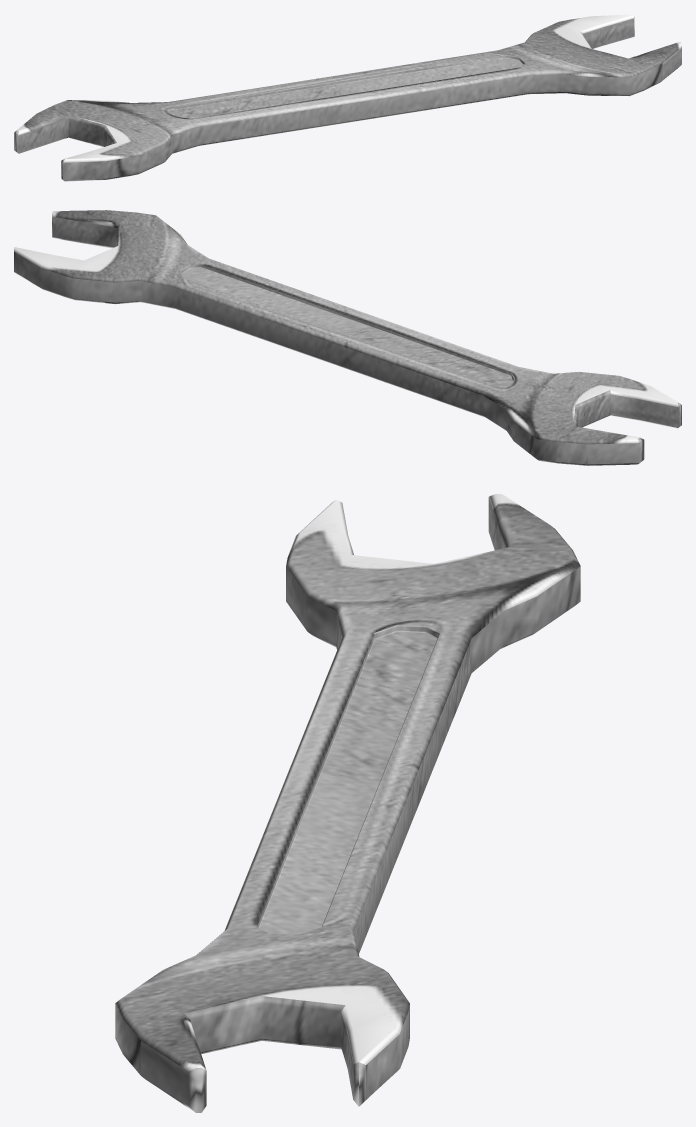
Rendered from healthpickup.fbx.
3 views of the same model, one above another, from view 1: azimuth 30°, elevation 25°; view 2: azimuth 150°, elevation 25°; view 3: azimuth 270°, elevation 25° (orthographic). The views are drawn at different scales.
Visible parts, largest first — view 1: HealthPickup1; view 2: HealthPickup1; view 3: HealthPickup1.
Part boxes in pixels (bbox=[...]): HealthPickup1: bbox=[14, 14, 681, 181]; HealthPickup1: bbox=[14, 210, 681, 465]; HealthPickup1: bbox=[115, 494, 580, 1112].
Size of the model in its own units: 4.27 by 0.1547 by 1.46.
